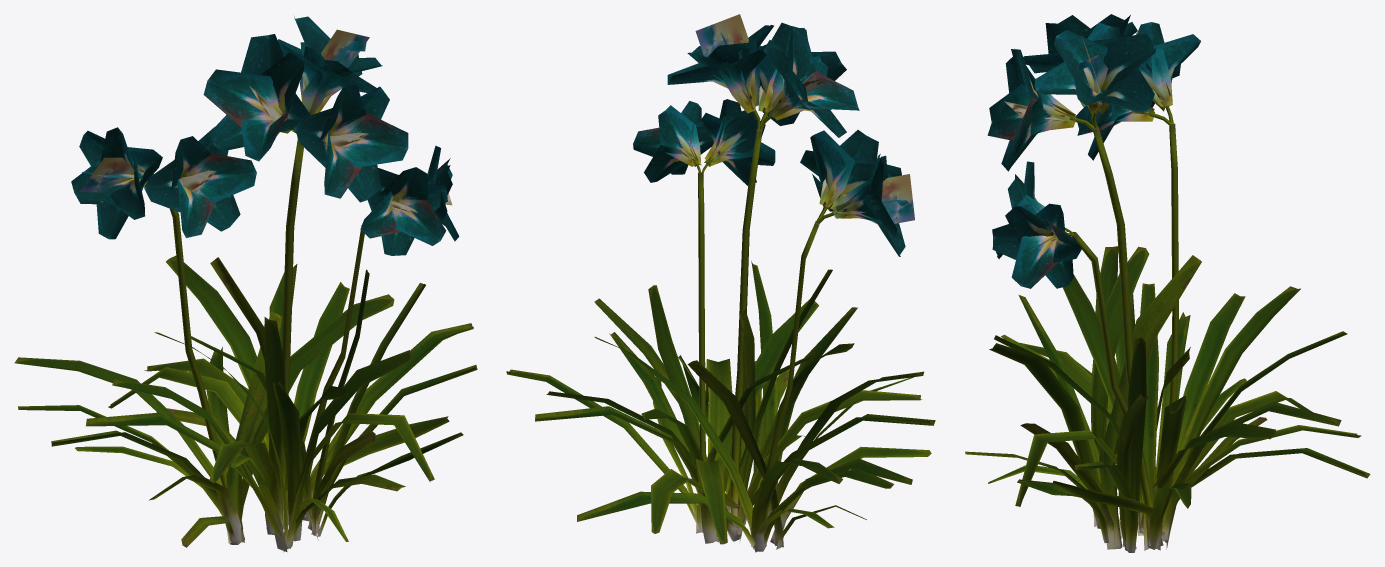
Rendered from Amaryllis_bush_long_cyan.glb.
3 renders of one model, left to right at view 1: azimuth 30°, elevation 25°; view 2: azimuth 150°, elevation 25°; view 3: azimuth 270°, elevation 25°, orthographic. The views are drawn at different scales.
Parts seen in each view (by area): view 1: bush; view 2: bush; view 3: bush.
Part boxes in pixels (box(x1,y1,x2,y2)): bush: box(14, 16, 477, 552); bush: box(506, 14, 935, 552); bush: box(965, 14, 1370, 552).
Size of the model in its own units: 2.94 by 3.42 by 2.41.
1 material, 1 textured.
